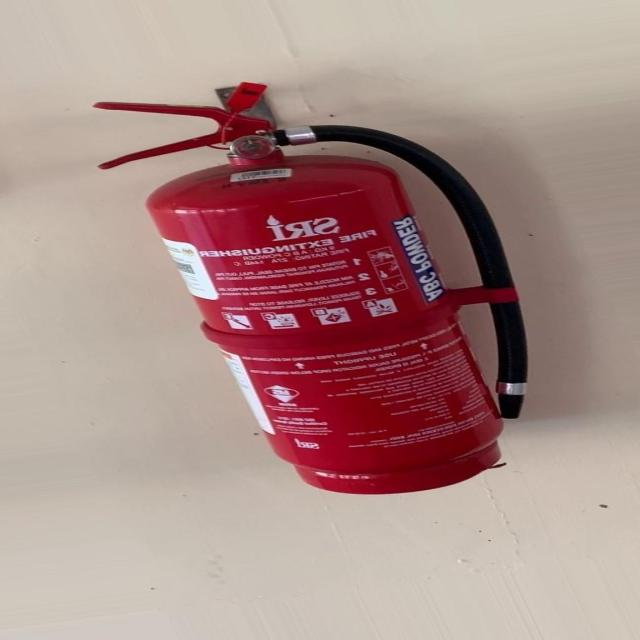fire_extinguisher: (84, 79, 536, 497)
